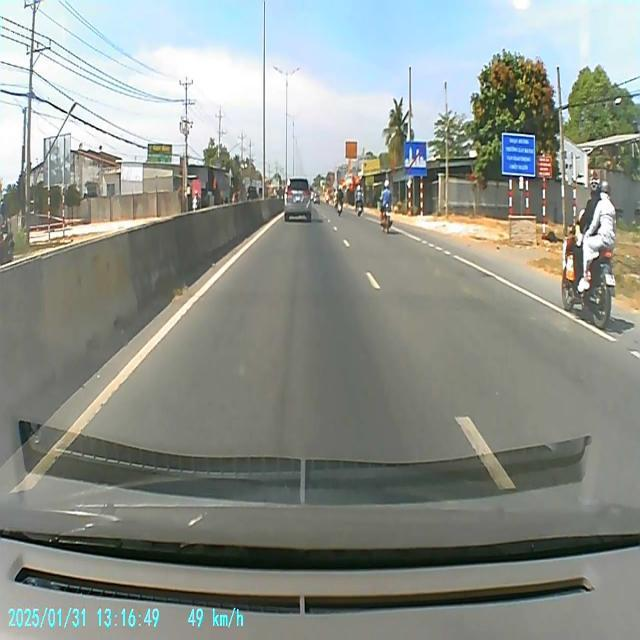421-ket-thuc-khu-dong-dan-cu: (404, 141, 427, 177)
